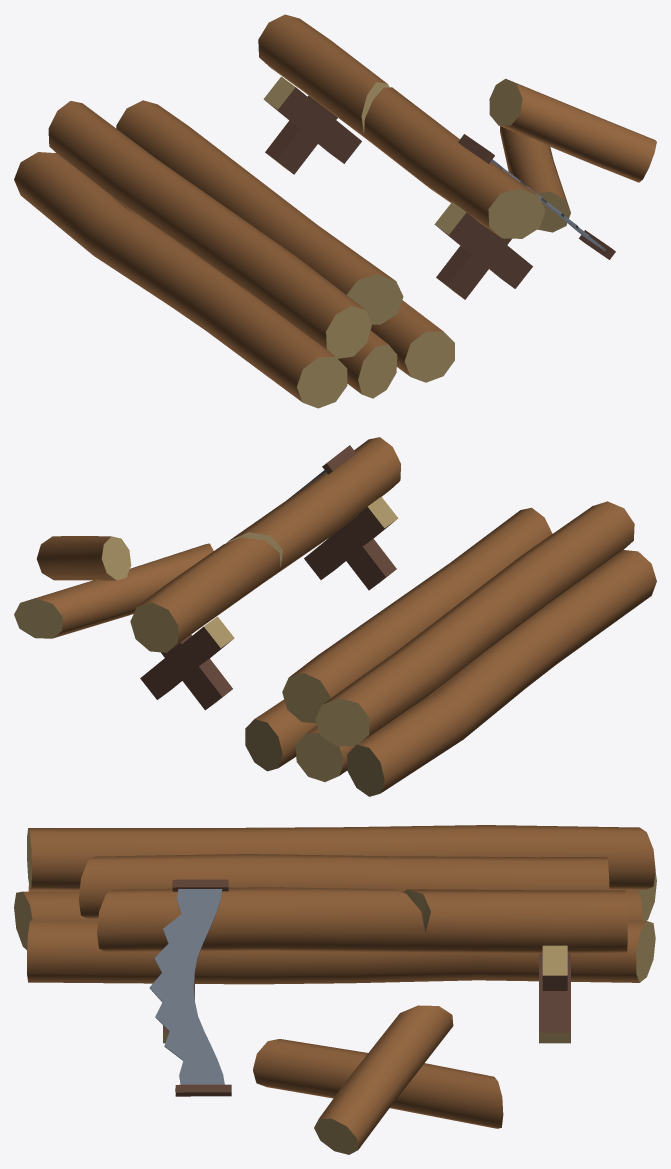
Rendered from Environment_Sawmill.glb.
3 renders of one model, top to bottom at view 1: azimuth 30°, elevation 25°; view 2: azimuth 150°, elevation 25°; view 3: azimuth 270°, elevation 25°, orthographic. The views are drawn at different scales.
Visible parts, largest first — view 1: Environment_Sawmill; view 2: Environment_Sawmill; view 3: Environment_Sawmill.
Part boxes in pixels (left/top/right/bottom): Environment_Sawmill: left=14, top=14, right=656, bottom=408; Environment_Sawmill: left=14, top=437, right=656, bottom=796; Environment_Sawmill: left=14, top=825, right=656, bottom=1154.
Size of the model in its own units: 2.07 by 0.5934 by 2.06.
Materials: 1 (1 with a texture image).
